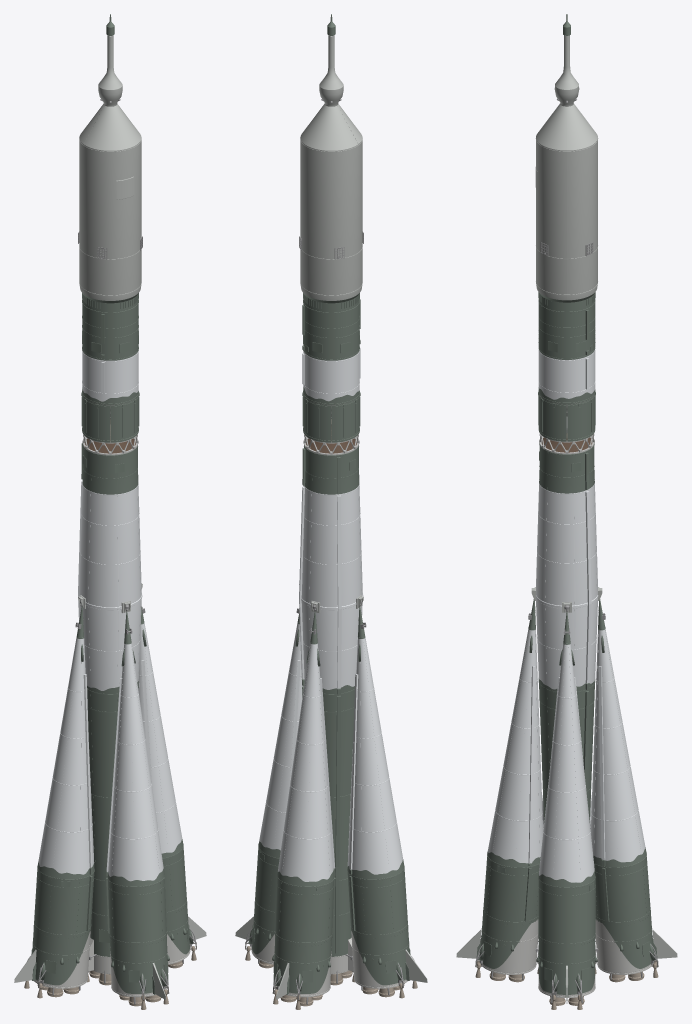
File: vehicle.glb
The picture shows the model from 3 angles, left to right: view 1: azimuth 30°, elevation 25°; view 2: azimuth 150°, elevation 25°; view 3: azimuth 270°, elevation 25°; orthographic projection.
Visible parts, largest first — view 1: Core_Frost, Fairing_Left_Fittings, Booster_D_Frost, Booster_G_Frost, Core_Skin, Booster_D_Skin, Booster_G_Skin, Booster_B_Frost, BlockI_FairingSupport, BlockI_Frost, Booster_B_Skin, AftSection_2_Skin (+6 smaller); view 2: Core_Frost, Fairing_Right_Fittings, Booster_V_Frost, Booster_G_Frost, Core_Skin, Booster_V_Skin, Booster_G_Skin, Booster_B_Frost, BlockI_FairingSupport, BlockI_Frost, Booster_B_Skin, Core_Fittings (+7 smaller); view 3: Core_Frost, Booster_B_Frost, Booster_D_Frost, Booster_V_Frost, Booster_B_Skin, Fairing_Right_Fittings, Fairing_Left_Fittings, Booster_V_Skin, Booster_D_Skin, Core_Skin, BlockI_FairingSupport, BlockI_Frost (+6 smaller).
Boxes of the visible parts, x1=… form: Core_Frost: x1=78, y1=480, x2=142, y2=690; Fairing_Left_Fittings: x1=83, y1=104, x2=141, y2=300; Booster_D_Frost: x1=106, y1=643, x2=163, y2=881; Booster_G_Frost: x1=38, y1=638, x2=94, y2=874; Core_Skin: x1=82, y1=445, x2=138, y2=956; Booster_D_Skin: x1=107, y1=611, x2=168, y2=993; Booster_G_Skin: x1=32, y1=606, x2=94, y2=985; Booster_B_Frost: x1=138, y1=623, x2=182, y2=853; BlockI_FairingSupport: x1=82, y1=291, x2=138, y2=405; BlockI_Frost: x1=82, y1=349, x2=138, y2=401; Booster_B_Skin: x1=141, y1=606, x2=189, y2=954; AftSection_2_Skin: x1=81, y1=392, x2=110, y2=442; Core_Frost: x1=299, y1=482, x2=363, y2=689; Fairing_Right_Fittings: x1=300, y1=104, x2=358, y2=300; Booster_V_Frost: x1=278, y1=643, x2=335, y2=881; Booster_G_Frost: x1=347, y1=638, x2=402, y2=874; Core_Skin: x1=303, y1=445, x2=359, y2=956; Booster_V_Skin: x1=273, y1=611, x2=334, y2=993; Booster_G_Skin: x1=347, y1=606, x2=409, y2=985; Booster_B_Frost: x1=259, y1=623, x2=303, y2=850; BlockI_FairingSupport: x1=302, y1=291, x2=360, y2=405; BlockI_Frost: x1=302, y1=347, x2=360, y2=401; Booster_B_Skin: x1=252, y1=613, x2=299, y2=954; Core_Fittings: x1=302, y1=448, x2=355, y2=953; Core_Frost: x1=535, y1=483, x2=598, y2=689; Booster_B_Frost: x1=539, y1=644, x2=594, y2=882; Booster_D_Frost: x1=488, y1=629, x2=543, y2=863; Booster_V_Frost: x1=590, y1=629, x2=645, y2=862; Booster_B_Skin: x1=538, y1=612, x2=595, y2=994; Fairing_Right_Fittings: x1=567, y1=103, x2=598, y2=300; Fairing_Left_Fittings: x1=535, y1=103, x2=566, y2=300; Booster_V_Skin: x1=593, y1=599, x2=653, y2=968; Booster_D_Skin: x1=480, y1=599, x2=540, y2=968; Core_Skin: x1=538, y1=443, x2=595, y2=822; BlockI_FairingSupport: x1=538, y1=292, x2=595, y2=404; BlockI_Frost: x1=538, y1=349, x2=595, y2=399.
Size of the model in its own units: 10.41 by 49.96 by 10.41.
